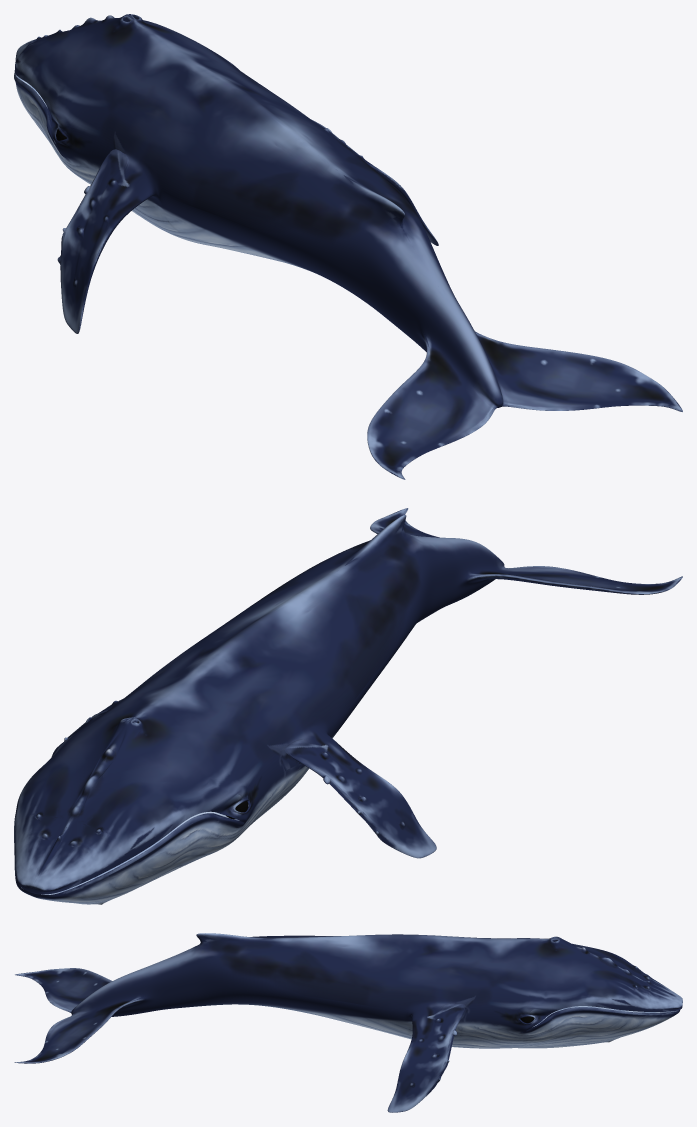
The model's file is 1.BallenaAzul_SA.glb.
3 renders of one model, top to bottom at view 1: azimuth 30°, elevation 25°; view 2: azimuth 150°, elevation 25°; view 3: azimuth 270°, elevation 25°, orthographic. The views are drawn at different scales.
Parts seen in each view (by area): view 1: BallenaAzul; view 2: BallenaAzul; view 3: BallenaAzul.
Boxes of the visible parts, box(x1,y1,x2,y2) form: BallenaAzul: box(14, 14, 682, 479); BallenaAzul: box(14, 508, 682, 904); BallenaAzul: box(14, 933, 682, 1112).
Bounding box in the file's own units: 4.64 × 2.32 × 11.47.
Materials: 2 (1 with a texture image).
